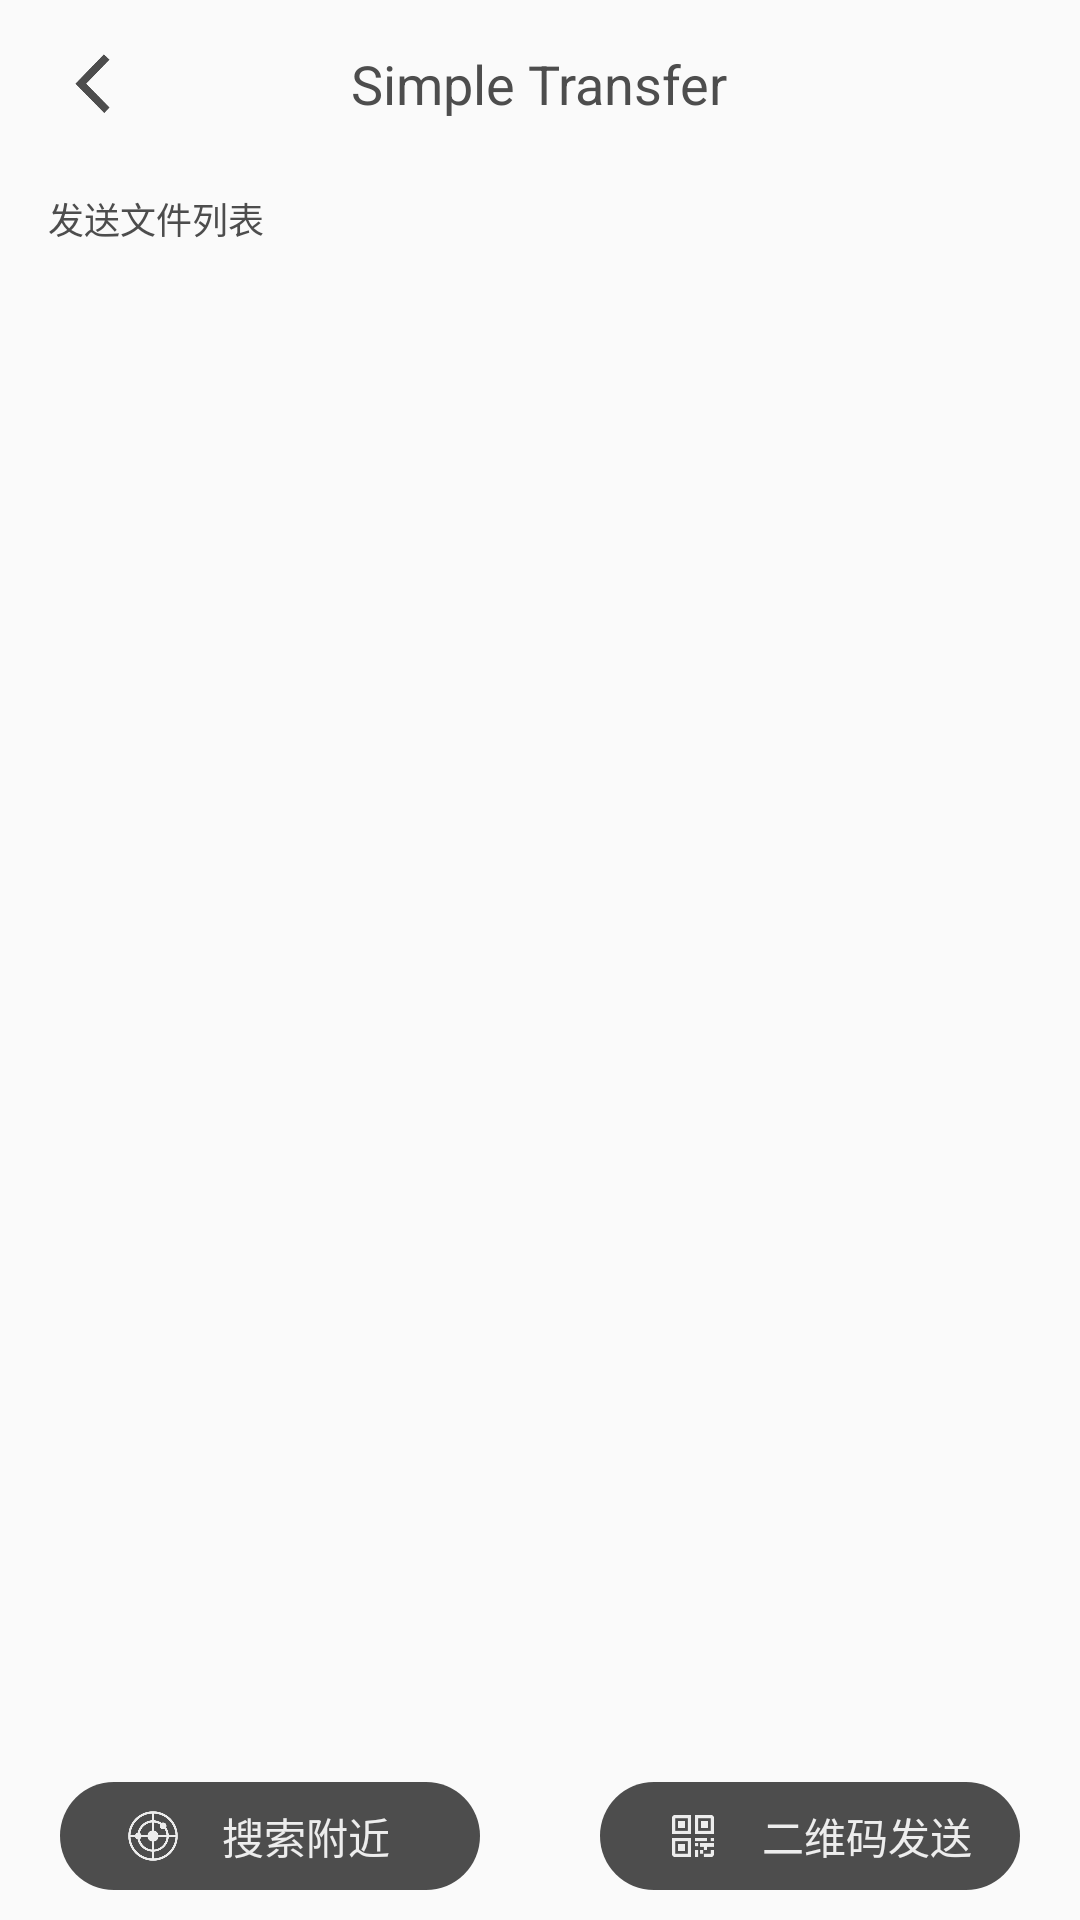

Icons on this 1080px×1920px Android screen, each with the point to tap as point (x, y):
back: point (92, 83)
code: point (693, 1836)
radar: point (153, 1836)
